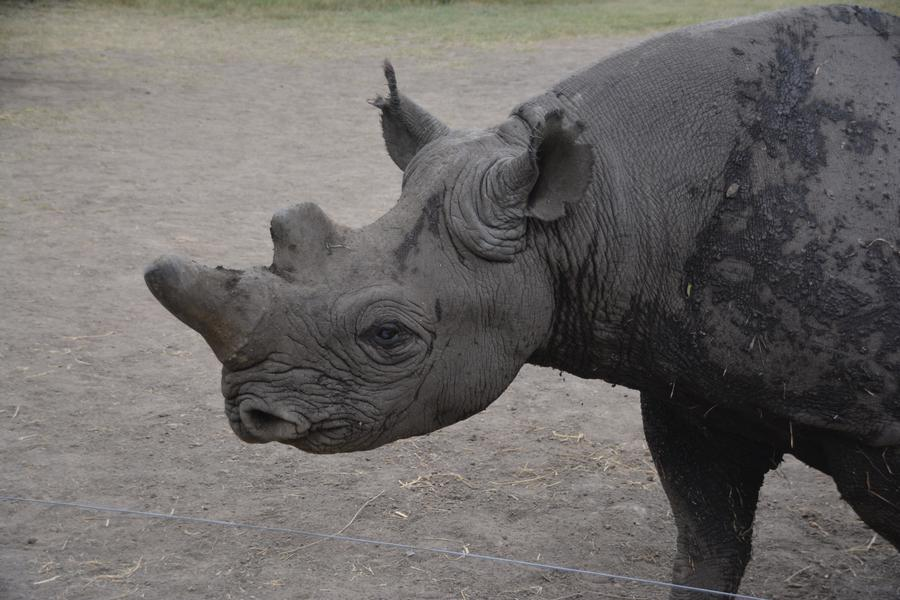rhino: (166, 18, 883, 557)
